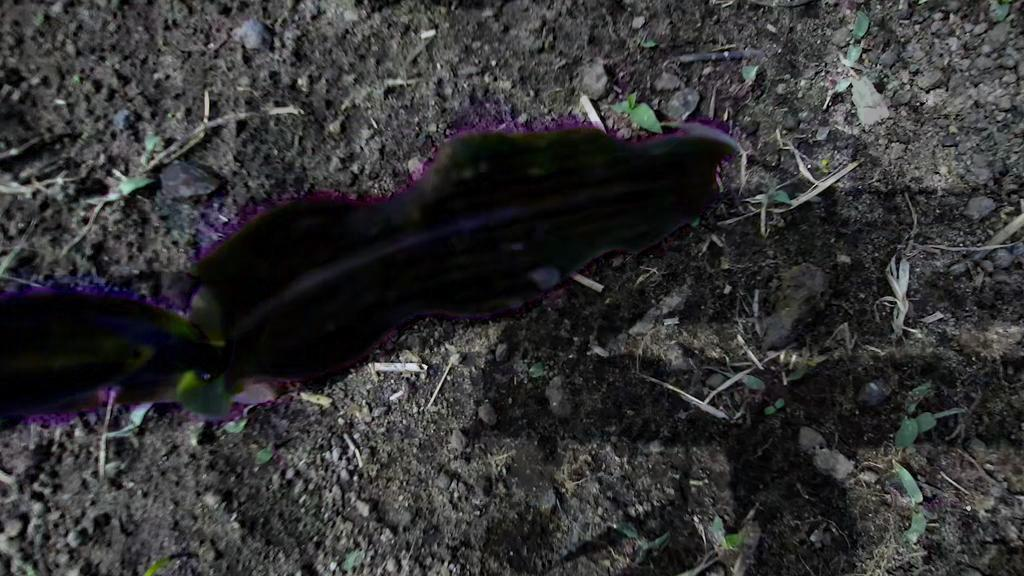BroWeed: (608, 86, 670, 146), (87, 168, 156, 214), (892, 379, 930, 453), (700, 356, 770, 394), (106, 398, 157, 446), (610, 519, 672, 555), (888, 453, 927, 508), (912, 397, 967, 435), (895, 501, 938, 545), (222, 401, 264, 438), (845, 9, 874, 48), (250, 438, 281, 469), (582, 332, 613, 363), (833, 50, 867, 75), (760, 393, 789, 420), (709, 512, 728, 552), (0, 243, 22, 277), (338, 549, 365, 575), (813, 116, 836, 144), (638, 28, 663, 53), (824, 76, 852, 98), (138, 139, 158, 168), (187, 421, 204, 449), (784, 365, 810, 383), (767, 188, 792, 206), (806, 351, 828, 369), (196, 230, 224, 244), (740, 63, 759, 83), (723, 532, 745, 548), (144, 134, 163, 152), (846, 45, 863, 63), (528, 360, 545, 377), (327, 554, 341, 573), (637, 546, 650, 566), (144, 404, 158, 421), (23, 562, 38, 576), (820, 158, 829, 174), (70, 73, 83, 84), (0, 140, 7, 149)
Maize: (0, 39, 763, 491)
